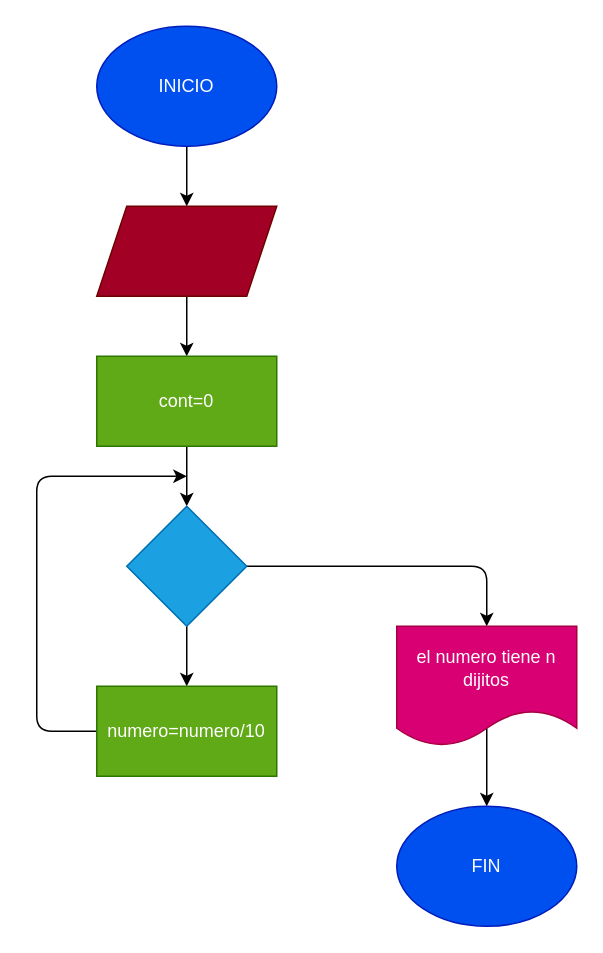
The diagram is 603 pixels wide and 953 high, and some of its shapes have lost their labels. The centre of each missing label's shape, as x and y in pixels:
"Ingresa el numero" belongs at pixel 186 250.
"numero>0" belongs at pixel 186 565.
